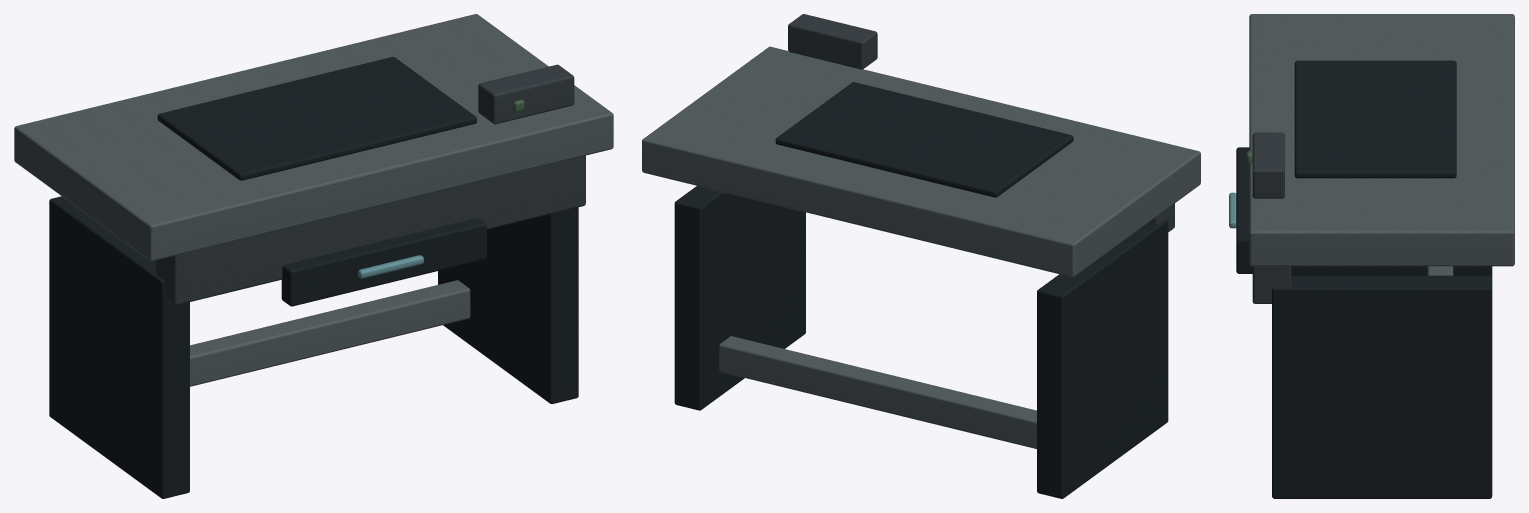
Rendered from Workbench.fbx.
3 views of the same model, side by side, from view 1: azimuth 30°, elevation 25°; view 2: azimuth 150°, elevation 25°; view 3: azimuth 270°, elevation 25° (orthographic). The views are drawn at different scales.
Parts seen in each view (by area): view 1: Workbench_Mesh; view 2: Workbench_Mesh; view 3: Workbench_Mesh.
Boxes of the visible parts, bbox=[...] form: Workbench_Mesh: bbox=[14, 14, 613, 498]; Workbench_Mesh: bbox=[642, 14, 1200, 498]; Workbench_Mesh: bbox=[1229, 14, 1514, 498].
Size of the model in its own units: 160 by 110 by 88.25.
